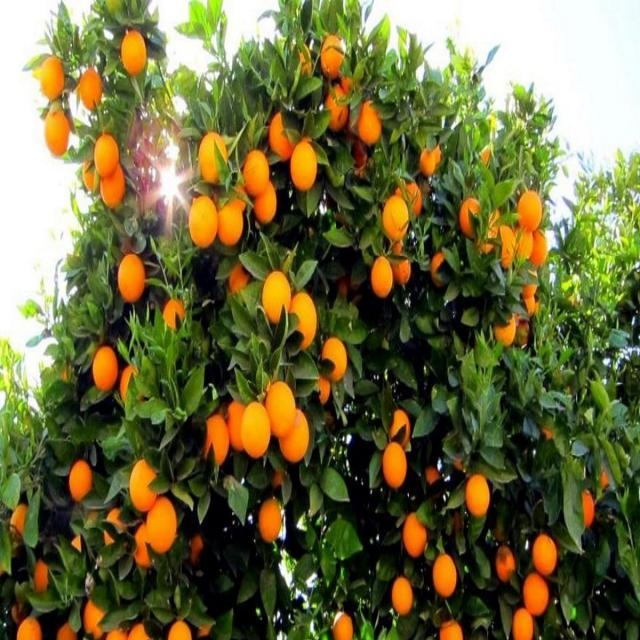Jeruk Sudah Matang: (144, 497, 178, 553), (240, 398, 270, 460), (262, 270, 292, 331), (288, 289, 318, 349), (264, 379, 295, 437), (281, 404, 309, 466), (128, 456, 158, 512), (198, 130, 228, 183), (188, 194, 216, 248), (116, 254, 148, 300), (217, 197, 246, 247), (380, 443, 410, 491), (356, 98, 386, 146), (92, 343, 119, 396), (202, 414, 230, 464), (243, 147, 269, 200), (380, 194, 412, 237), (43, 109, 71, 158), (119, 29, 148, 76), (290, 140, 316, 192), (432, 549, 456, 603), (521, 570, 550, 614), (92, 132, 121, 176), (402, 507, 428, 556), (268, 110, 294, 155), (324, 86, 350, 130), (97, 168, 127, 206), (80, 65, 103, 114), (68, 459, 94, 502), (466, 470, 489, 518), (532, 534, 558, 574), (322, 338, 348, 376), (518, 192, 544, 230), (84, 600, 110, 638), (372, 253, 393, 300), (258, 500, 282, 540), (460, 196, 482, 238), (393, 574, 413, 618), (494, 312, 518, 348), (512, 605, 536, 640), (494, 546, 516, 584), (386, 410, 412, 442), (578, 484, 596, 530), (497, 222, 515, 266), (528, 230, 550, 266), (332, 608, 354, 640), (162, 296, 184, 328), (16, 617, 44, 640), (430, 253, 448, 284), (418, 146, 436, 176), (167, 619, 190, 640), (440, 621, 462, 640)
